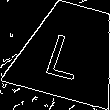L_N: (45, 22, 95, 80)
